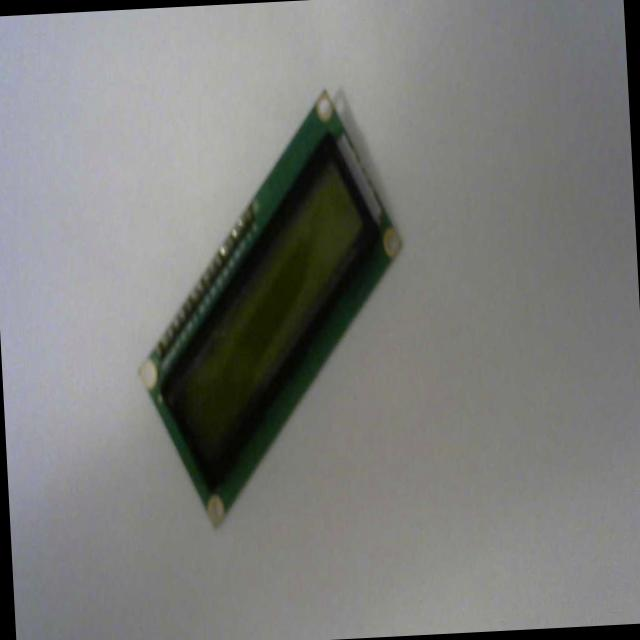lcd: (122, 82, 416, 531)
